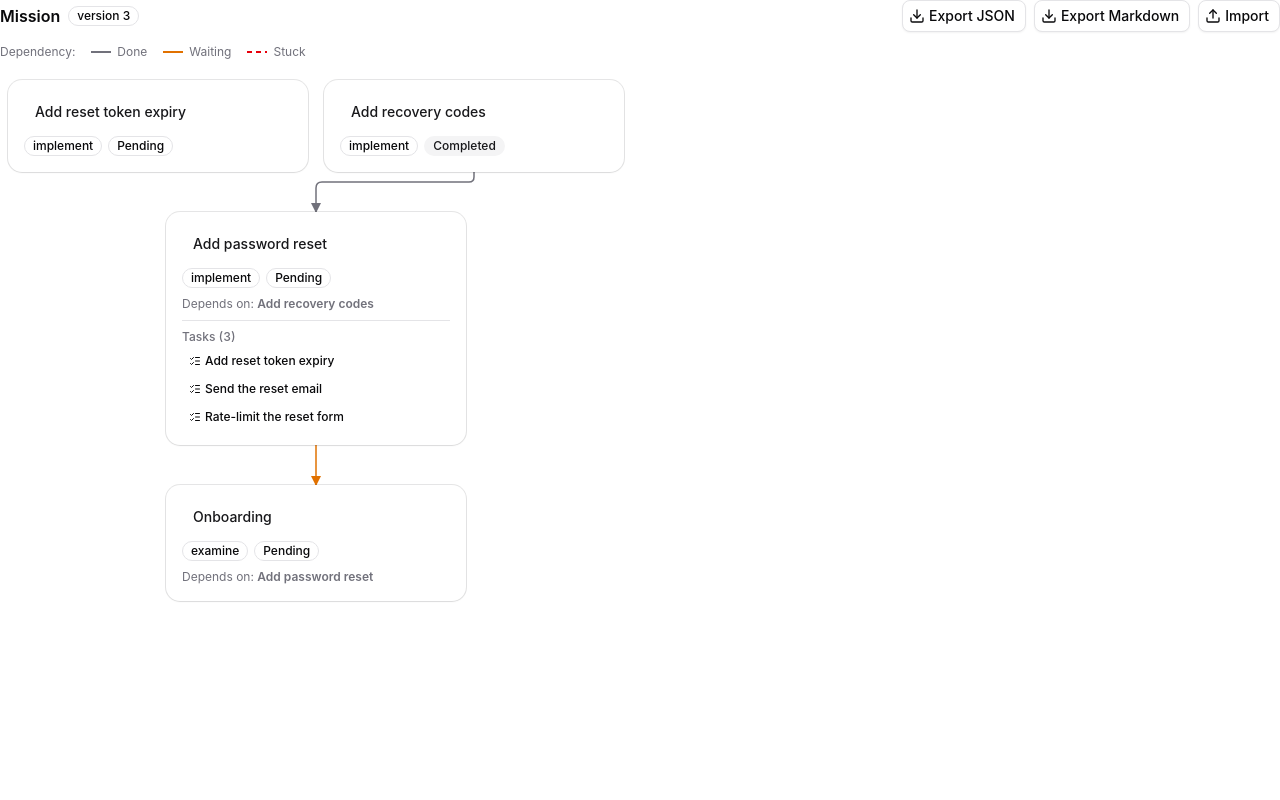
Test case: MissionPanel › marks the selected node and opens its details
Click the button "Add recovery codes" at point(418, 112), box x1=340 y1=96 x2=497 y2=128
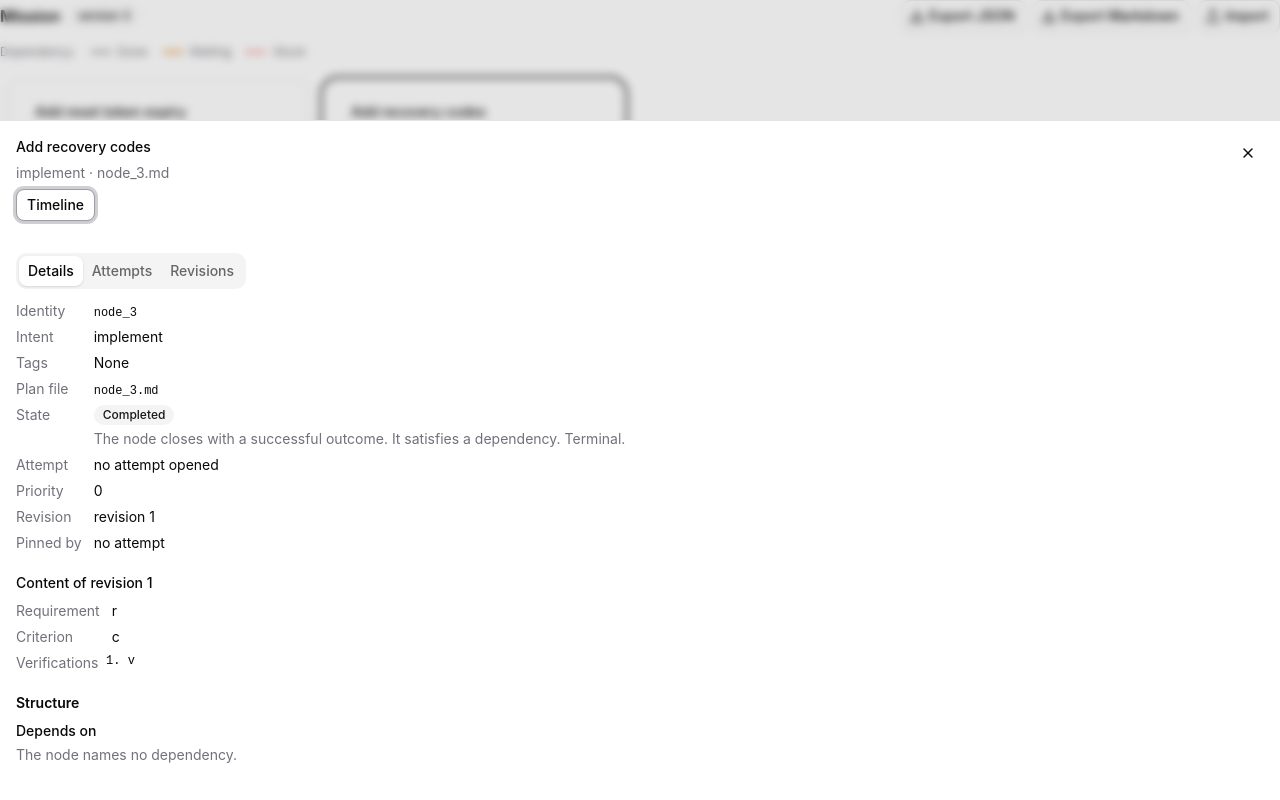
Check: the text "implement · node_3.md" is shown, box x1=16 y1=164 x2=169 y2=181
Check: the heading "Content of revision 1" is shown, box x1=16 y1=574 x2=153 y2=591
